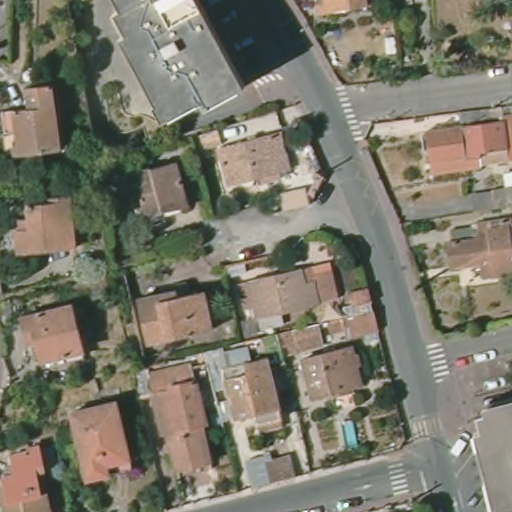pool: (337, 412, 362, 454)
